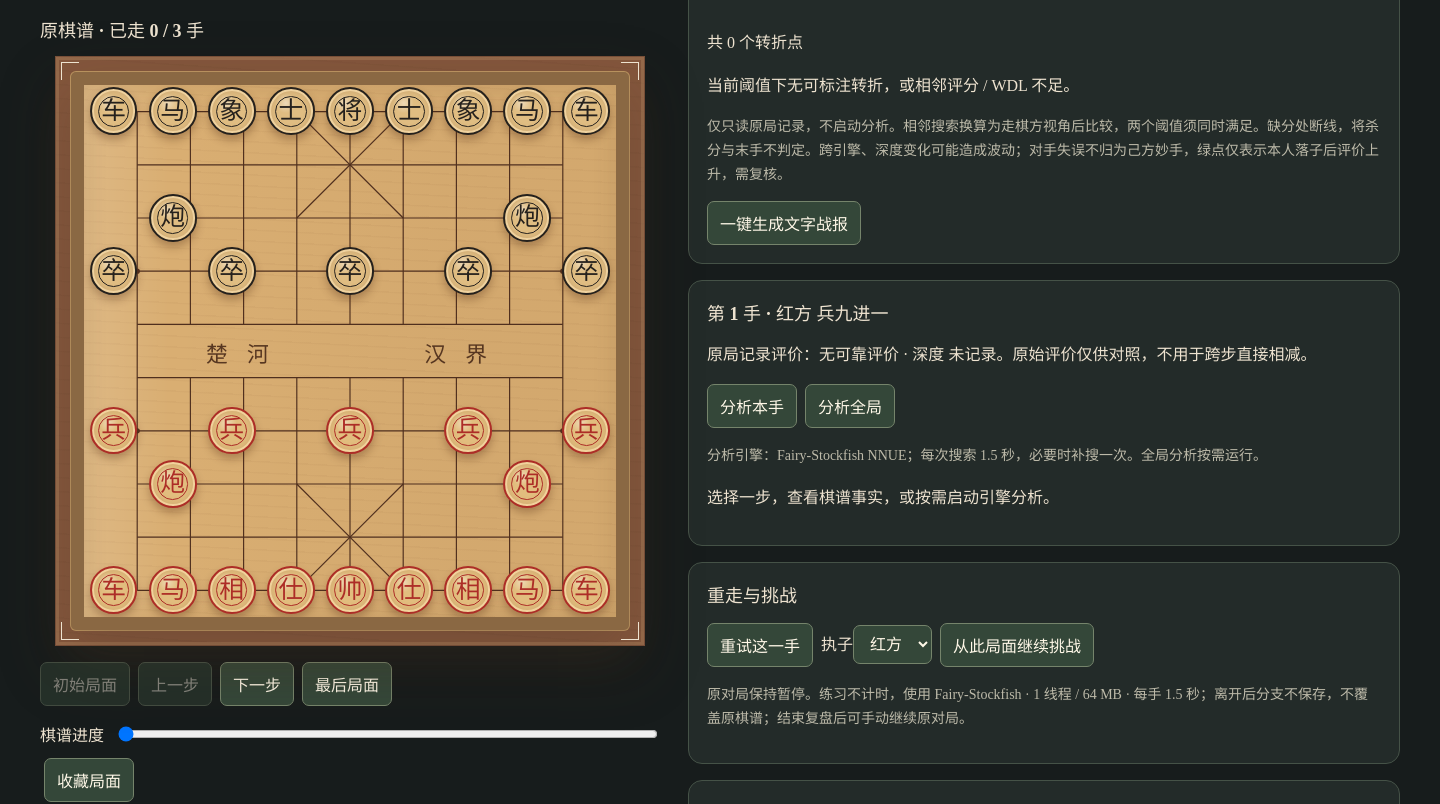
Test case: 切换步数后忽略迟到的分析，不污染当前点评
The image size is (1440, 804).
(page scrolled)
Click the button "分析本手". click: point(752, 406)
box: [707,384,797,428]
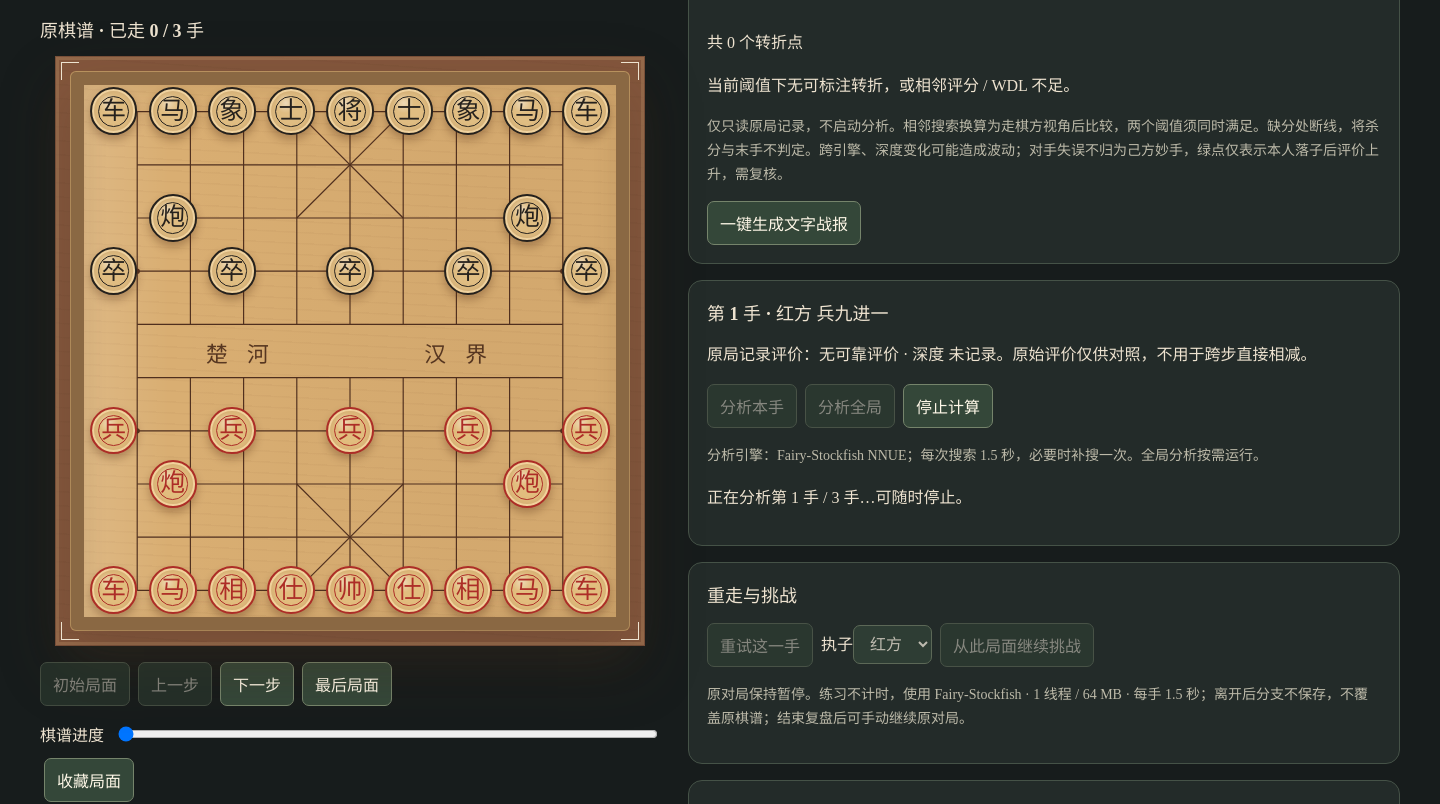
Click the button "下一步". click: point(257, 684)
box: [220,662,294,706]
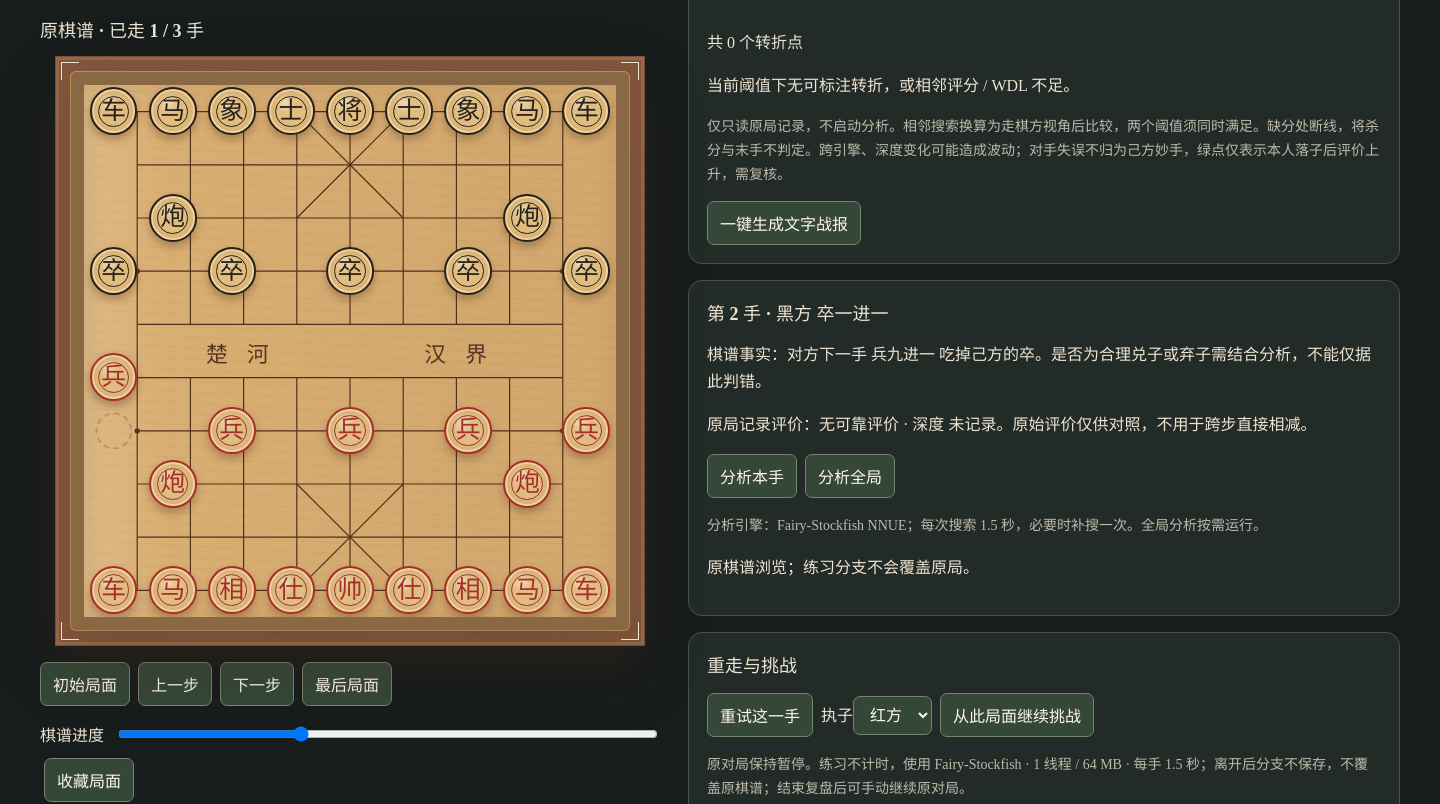
Now the heading "原棋谱 · 已走 1 / 3 手" is shown, box [40,21,204,41]
